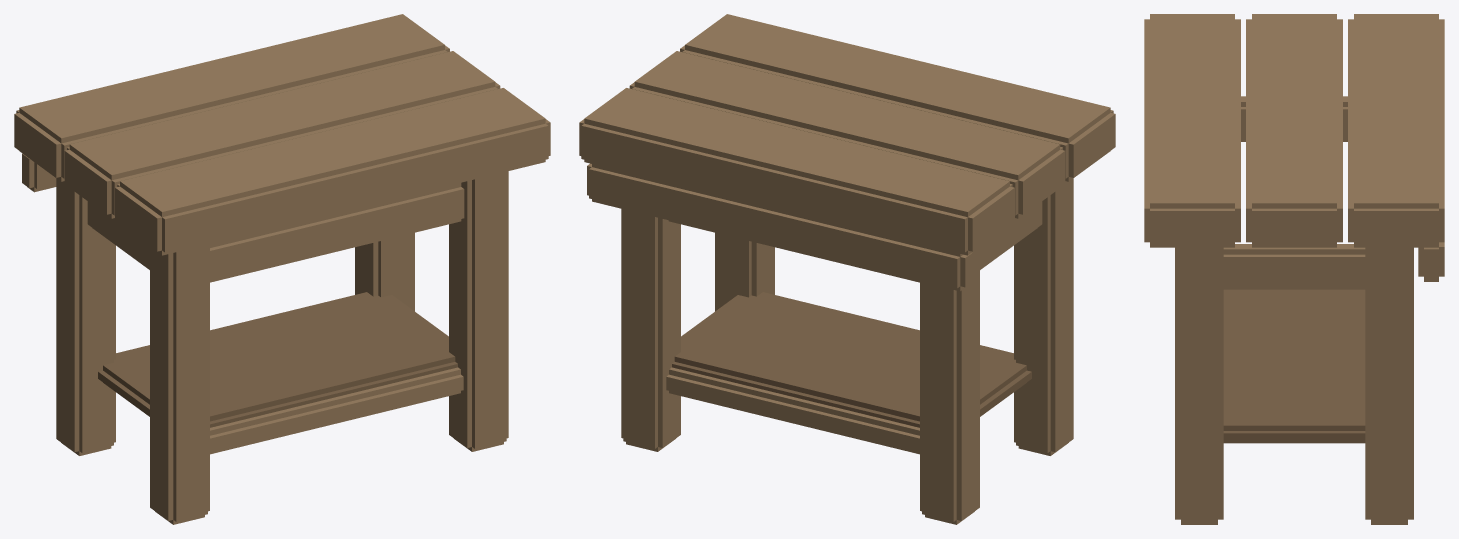
The picture shows the model from 3 angles, left to right: view 1: azimuth 30°, elevation 25°; view 2: azimuth 150°, elevation 25°; view 3: azimuth 270°, elevation 25°; orthographic projection.
Visible parts, largest first — view 1: workbench_t1; view 2: workbench_t1; view 3: workbench_t1.
Part boxes in pixels (box(x1,y1,x2,y2)): workbench_t1: box(14, 14, 550, 524); workbench_t1: box(579, 14, 1115, 524); workbench_t1: box(1144, 14, 1444, 524).
Size of the model in its own units: 1.04 by 0.835 by 0.68.
